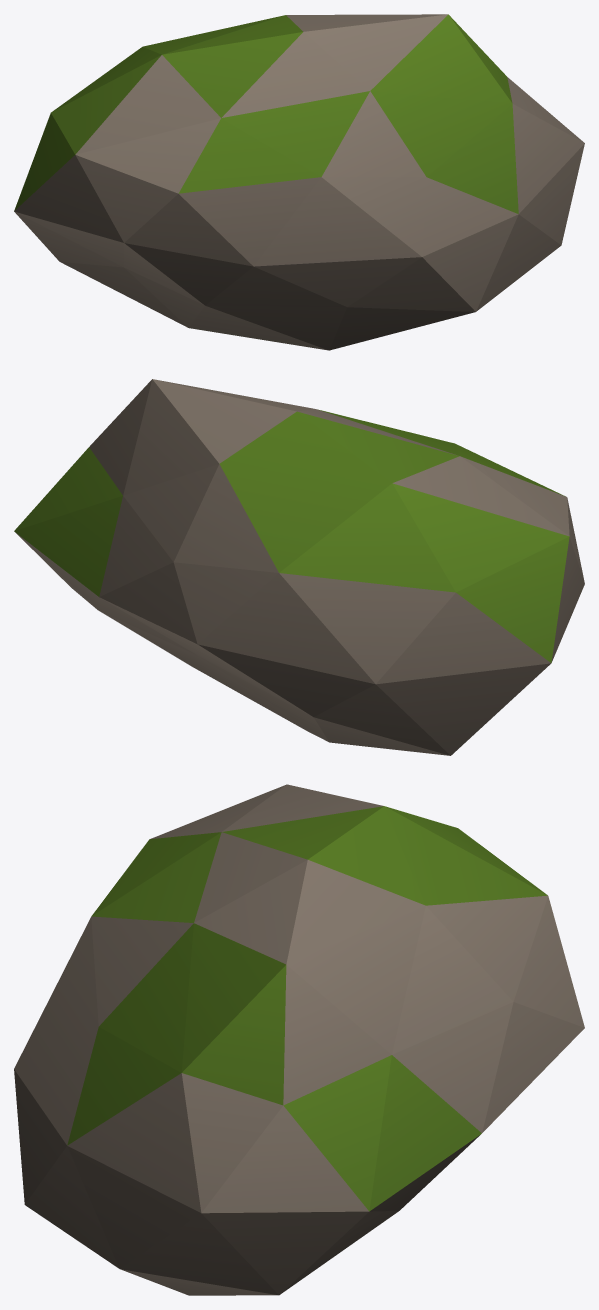
Rendered from rock_02.glb.
3 renders of one model, top to bottom at view 1: azimuth 30°, elevation 25°; view 2: azimuth 150°, elevation 25°; view 3: azimuth 270°, elevation 25°, orthographic. The views are drawn at different scales.
Visible parts, largest first — view 1: rock_02_LOD0; view 2: rock_02_LOD0; view 3: rock_02_LOD0.
Part boxes in pixels (box(x1,y1,x2,y2)): rock_02_LOD0: box(14, 14, 584, 350); rock_02_LOD0: box(14, 379, 584, 755); rock_02_LOD0: box(14, 784, 584, 1295).
Size of what is drawn, in the model's own units: 1.95 by 1.08 by 1.41.
1 material, 1 textured.
